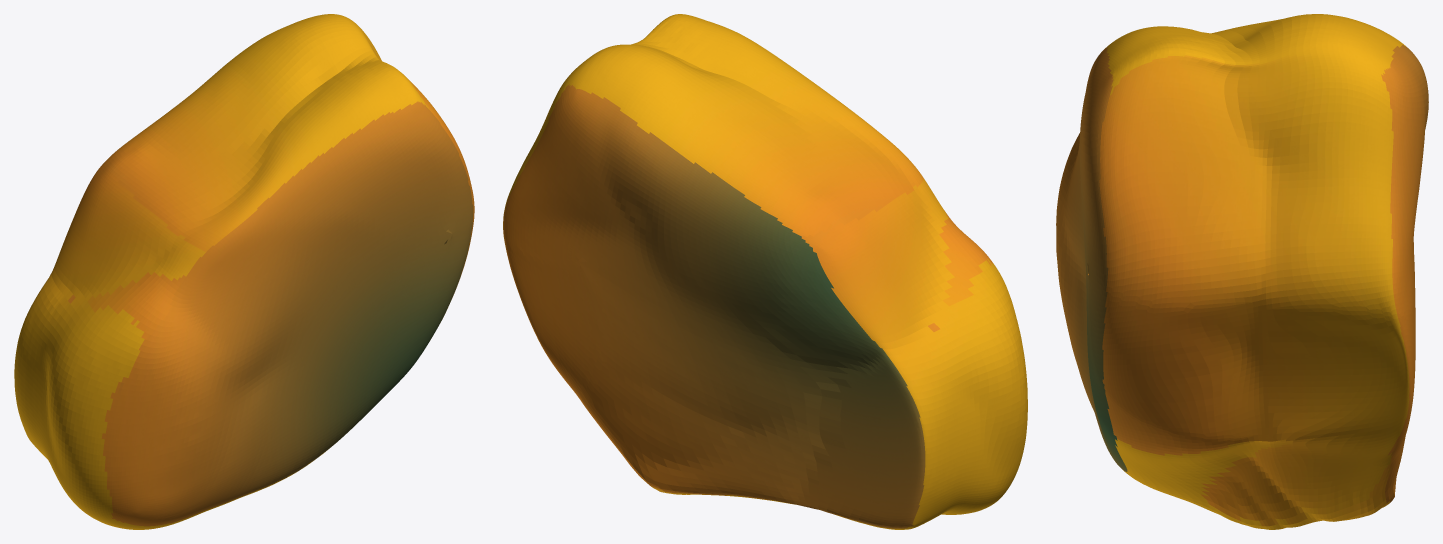
File: trucjaune.glb
3 renders of one model, left to right at view 1: azimuth 30°, elevation 25°; view 2: azimuth 150°, elevation 25°; view 3: azimuth 270°, elevation 25°, orthographic. The views are drawn at different scales.
Parts seen in each view (by area): view 1: Cube.001; view 2: Cube.001; view 3: Cube.001.
Boxes of the visible parts, x1,y1,x2,y2 form: Cube.001: (14, 14, 474, 529); Cube.001: (503, 14, 1027, 529); Cube.001: (1056, 14, 1428, 529).
Size of the model in its own units: 0.3508 by 0.3301 by 0.2036.
Materials: 1 (1 with a texture image).
